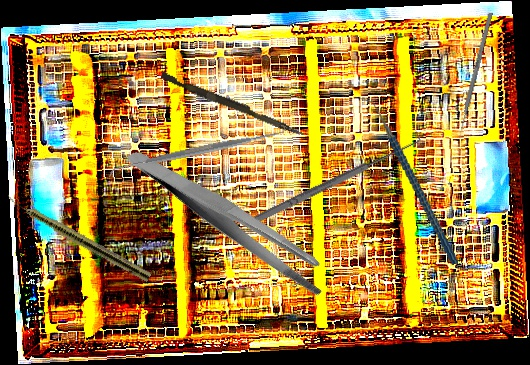Chopper: (358, 86, 459, 275)
Dressing Forceps: (125, 107, 336, 332)
Handpiece: (3, 192, 153, 283)
Hook Surgical: (242, 127, 424, 230)
Pusher: (159, 71, 307, 138), (456, 12, 493, 141)
Spatula Surgical: (105, 122, 289, 181)
